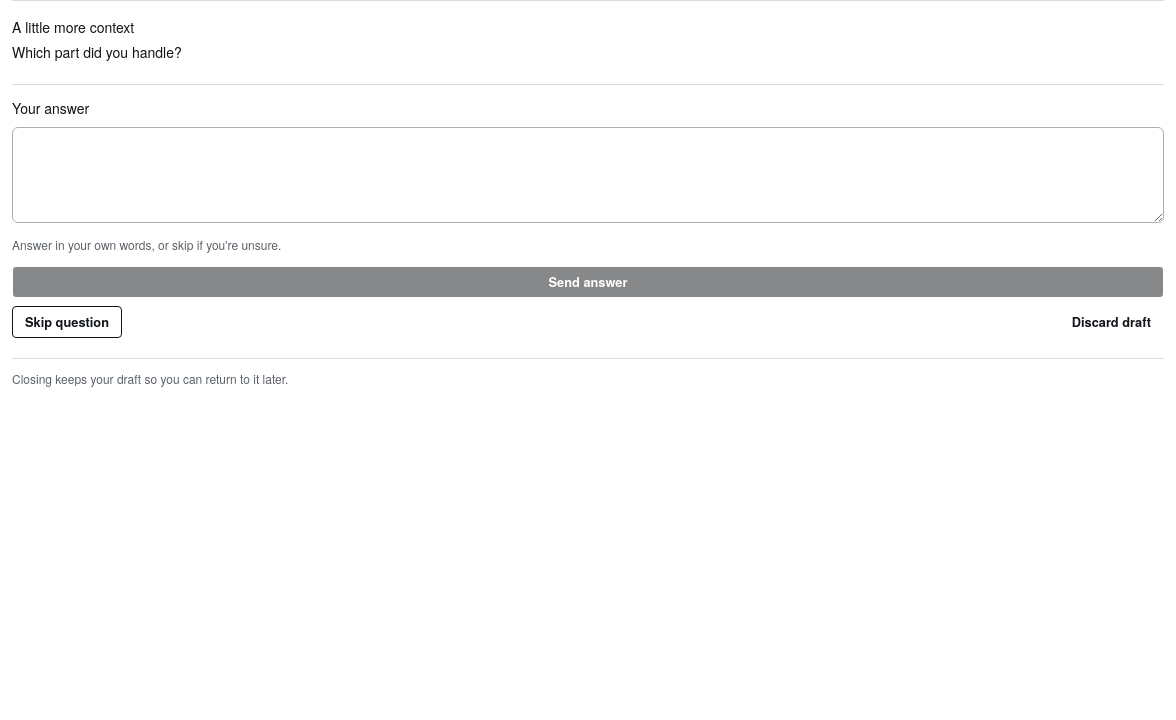
restores a pending question and submits a skip as a single continuation
Check: the text "Which part did you handle?" is shown, box [12,42,182,62]
Click the button "Skip question" at (67, 322), box [12,306,122,338]
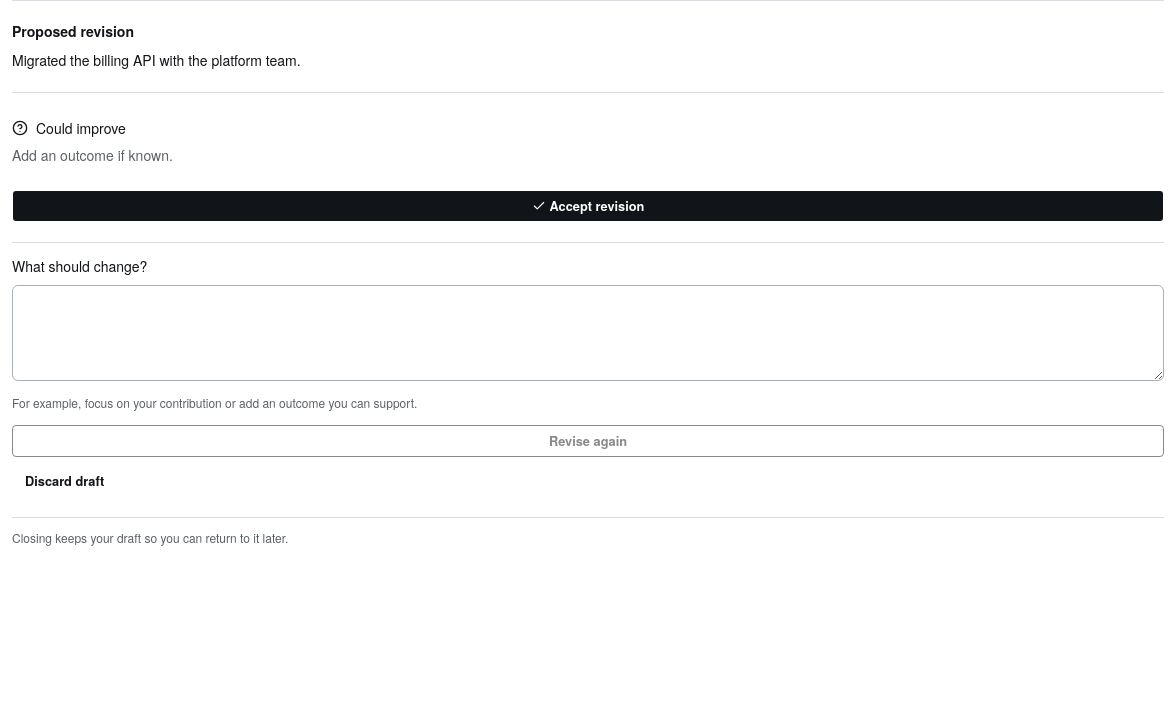
Check: the text "Migrated the billing API with the platform team." is shown, box [12,50,301,70]
Check: the text "Which part did you handle?" is gone
